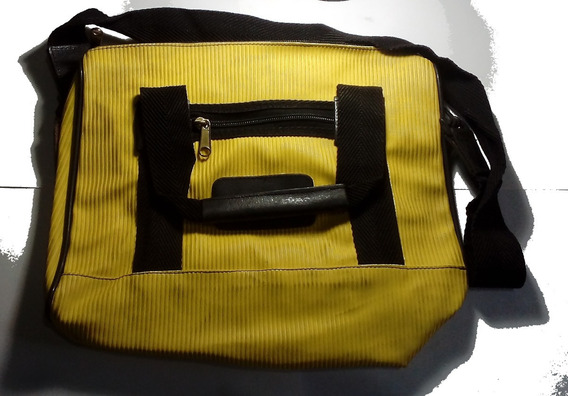cartera: (40, 3, 529, 369)
